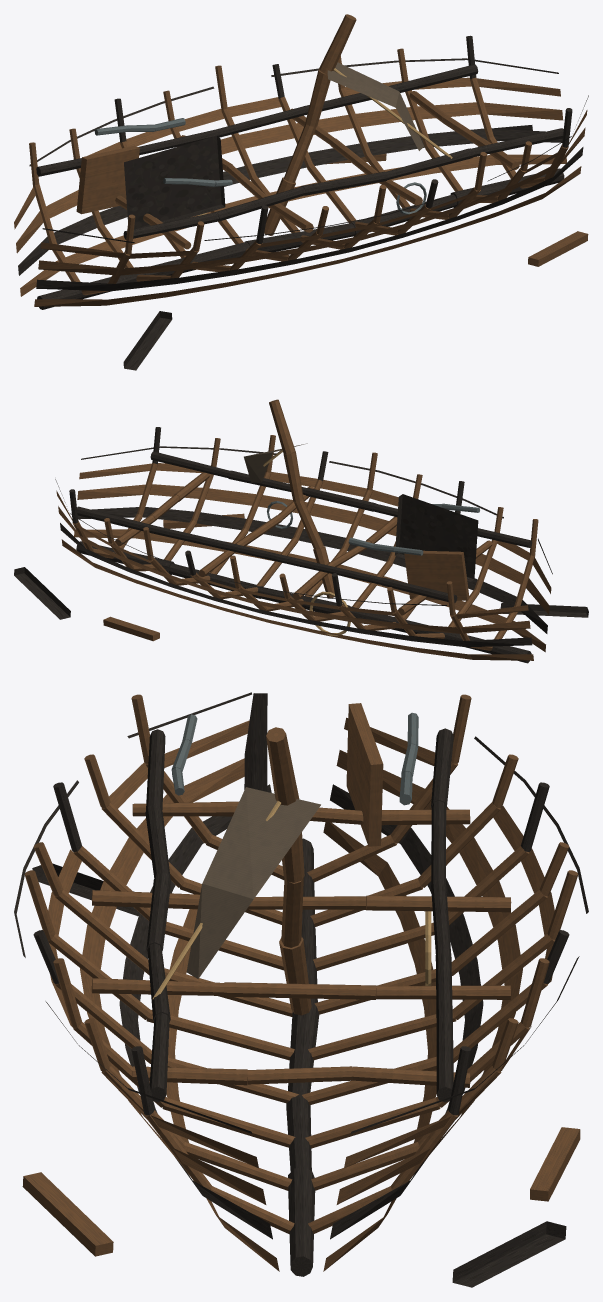
File: en-001_shipwreck_hull_chunk__medium.obj
The picture shows the model from 3 angles, top to bottom: view 1: azimuth 30°, elevation 25°; view 2: azimuth 150°, elevation 25°; view 3: azimuth 270°, elevation 25°; orthographic projection. The views are drawn at different scales.
Parts seen in each view (by area): view 1: en-001_shipwreck_hull_chunk__medium; view 2: en-001_shipwreck_hull_chunk__medium; view 3: en-001_shipwreck_hull_chunk__medium.
Part boxes in pixels (x1=…): en-001_shipwreck_hull_chunk__medium: x1=14, y1=14, x2=588, y2=370; en-001_shipwreck_hull_chunk__medium: x1=14, y1=399, x2=588, y2=663; en-001_shipwreck_hull_chunk__medium: x1=14, y1=692, x2=588, y2=1287.
Bounding box in the file's own units: 3.43 × 1.36 × 1.86.
Materials: 5 (5 with a texture image).
